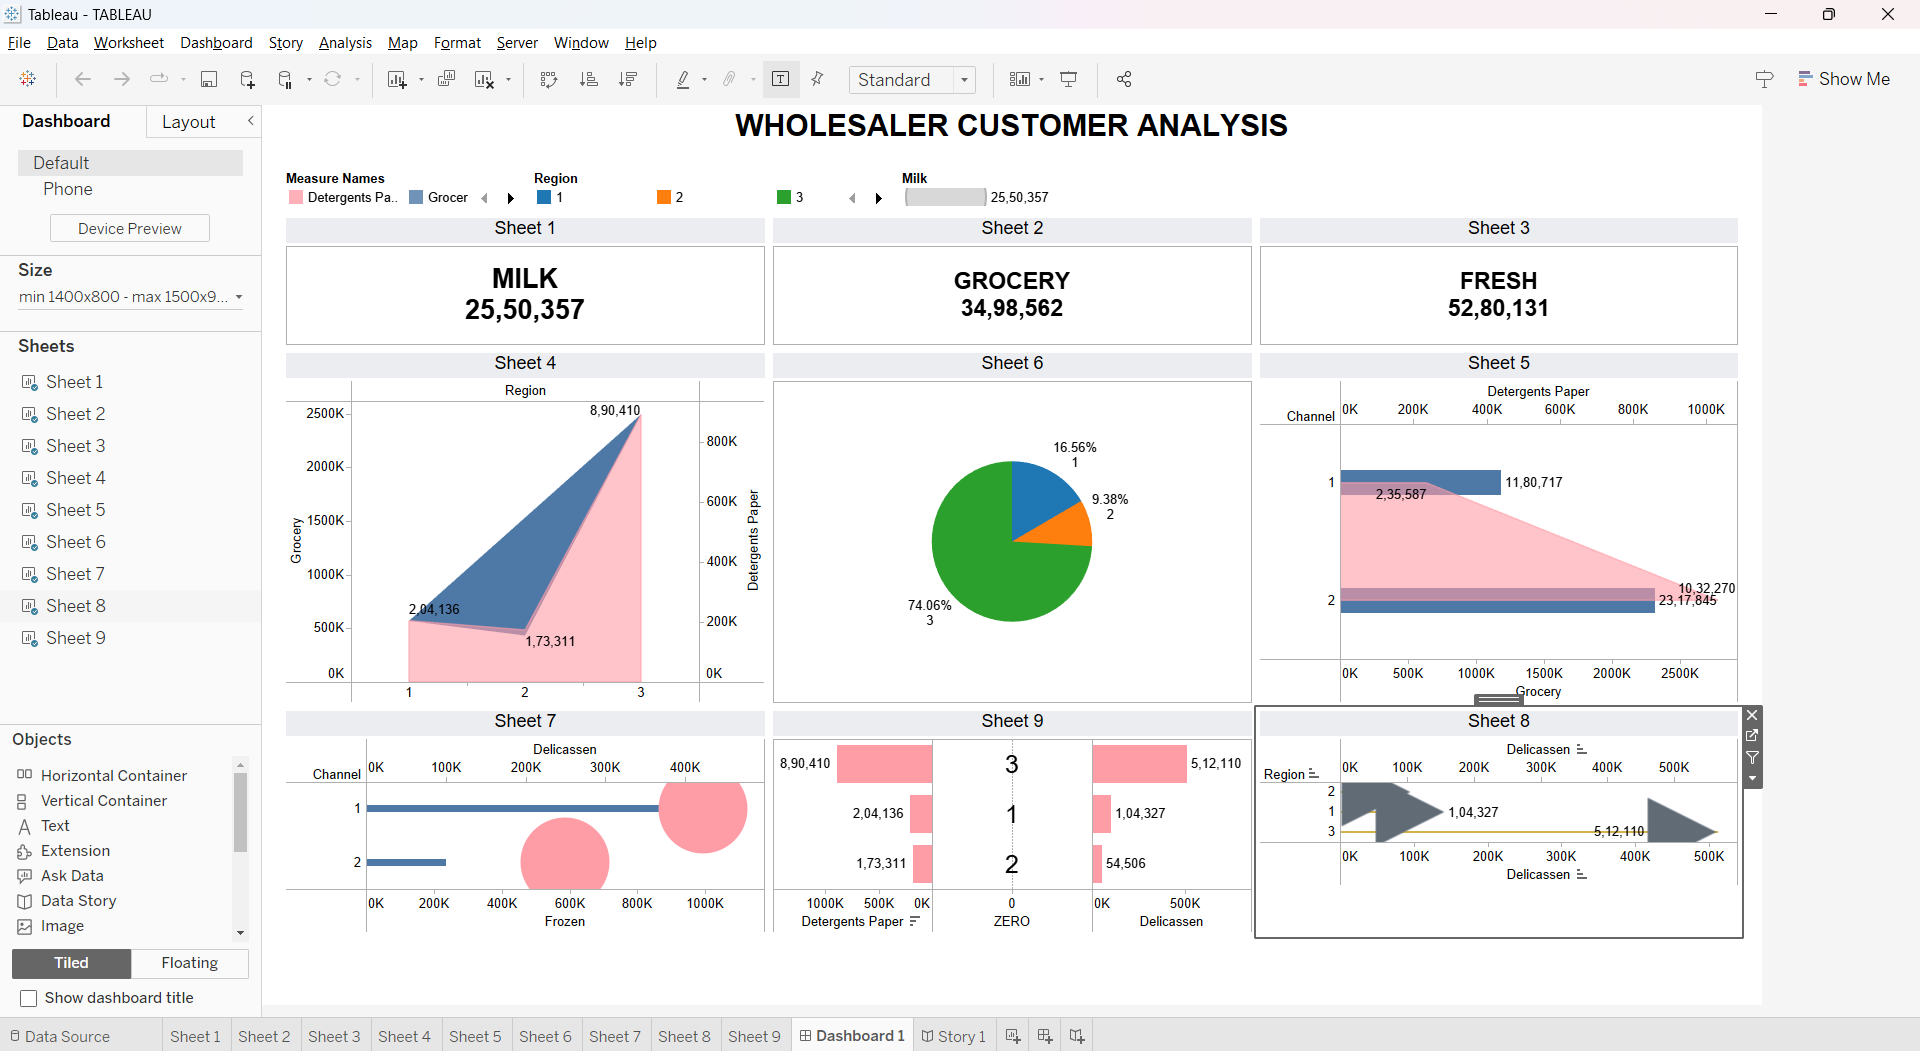

The page's visual inventory and layout, read from the dashboard file:
{"tool":"tableau","page":{"name":"Dashboard 1","canvas":[1000,1000],"units":"permille","ordinal":0},"visuals":[{"type":"title","box":[0,0,1000,47.1]},{"type":"legend","title":"Sheet 4","param":"[federated.1lewvow1gr6zx61gqi4kr0r9xwy8].[:Measure Names]","box":[14.3,69.6,177.1,52.8]},{"type":"legend","title":"Sheet 6","param":"[federated.1lewvow1gr6zx61gqi4kr0r9xwy8].[none:Region:ok]","box":[191.4,69.6,262.9,52.8]},{"type":"legend","title":"Sheet 6","param":"[federated.1lewvow1gr6zx61gqi4kr0r9xwy8].[sum:Milk:qk]","box":[454.3,69.6,120,52.8]},{"type":"worksheet","title":"Sheet 1","mark":"Automatic","box":[14.3,122.3,324.3,151.5]},{"type":"worksheet","title":"Sheet 2","mark":"Automatic","box":[338.6,122.3,323.6,151.5]},{"type":"worksheet","title":"Sheet 3","mark":"Automatic","box":[662.1,122.3,323.6,151.5]},{"type":"worksheet","title":"Sheet 4","mark":"Polygon","rows":["Grocery","Detergents_Paper"],"cols":["Region"],"box":[14.3,273.9,324.3,401.8]},{"type":"worksheet","title":"Sheet 6","mark":"Pie","box":[338.6,273.9,323.6,401.8]},{"type":"worksheet","title":"Sheet 5","mark":"Automatic","rows":["Channel"],"cols":["Grocery","Detergents_Paper"],"box":[662.1,273.9,323.6,401.8]},{"type":"worksheet","title":"Sheet 7","mark":"Automatic","rows":["Channel"],"cols":["Frozen","Delicassen"],"box":[14.3,675.6,324.3,258.1]},{"type":"worksheet","title":"Sheet 9","mark":"Automatic","rows":["Region"],"cols":["Detergents_Paper","Calculation_1522498157624459265","Delicassen"],"box":[338.6,675.6,323.6,258.1]},{"type":"worksheet","title":"Sheet 8","mark":"Shape","rows":["Region"],"cols":["Delicassen","Delicassen"],"box":[662.1,675.6,323.6,258.1]}]}

Visuals, with their boxes on the dashboard's canvas, which has no fixed pixel size, in thousandths of its width and height (x1, y1, x2, y2). These are canvas units, not pixel positions in the 1920x1051 screenshot, which may show the page scaled, cropped or inside an application window:
title: BBox(0, 0, 1000, 47)
"Sheet 4" legend: BBox(14, 70, 191, 122)
"Sheet 6" legend: BBox(191, 70, 454, 122)
"Sheet 6" legend: BBox(454, 70, 574, 122)
"Sheet 1" worksheet: BBox(14, 122, 339, 274)
"Sheet 2" worksheet: BBox(339, 122, 662, 274)
"Sheet 3" worksheet: BBox(662, 122, 986, 274)
"Sheet 4" worksheet (Polygon marks): BBox(14, 274, 339, 676)
"Sheet 6" worksheet (Pie marks): BBox(339, 274, 662, 676)
"Sheet 5" worksheet: BBox(662, 274, 986, 676)
"Sheet 7" worksheet: BBox(14, 676, 339, 934)
"Sheet 9" worksheet: BBox(339, 676, 662, 934)
"Sheet 8" worksheet (Shape marks): BBox(662, 676, 986, 934)
